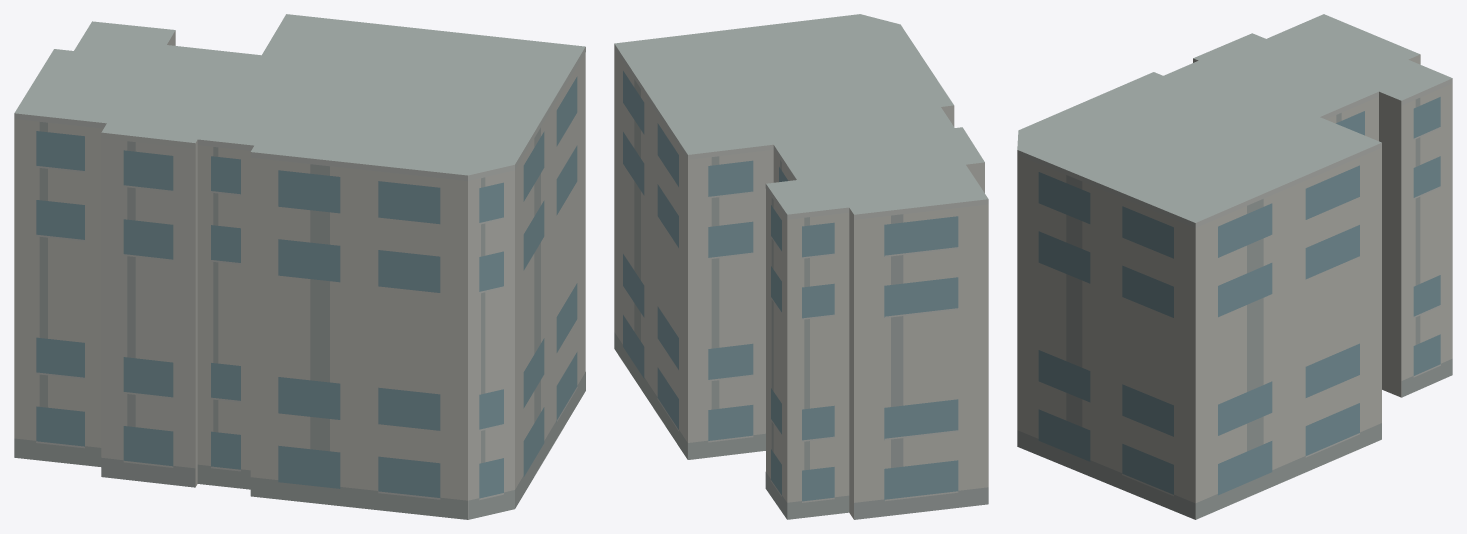
Rendered from survey-upis-32987394.glb.
3 renders of one model, left to right at view 1: azimuth 30°, elevation 25°; view 2: azimuth 150°, elevation 25°; view 3: azimuth 270°, elevation 25°, orthographic. The views are drawn at different scales.
Visible parts, largest first — view 1: survey-upis-32987394.tmp; view 2: survey-upis-32987394.tmp; view 3: survey-upis-32987394.tmp.
Boxes of the visible parts, x1,y1,x2,y2 form: survey-upis-32987394.tmp: [14, 14, 585, 519]; survey-upis-32987394.tmp: [614, 14, 988, 519]; survey-upis-32987394.tmp: [1017, 14, 1452, 519].
Size of the model in its own units: 22.1 by 14.63 by 19.46.
